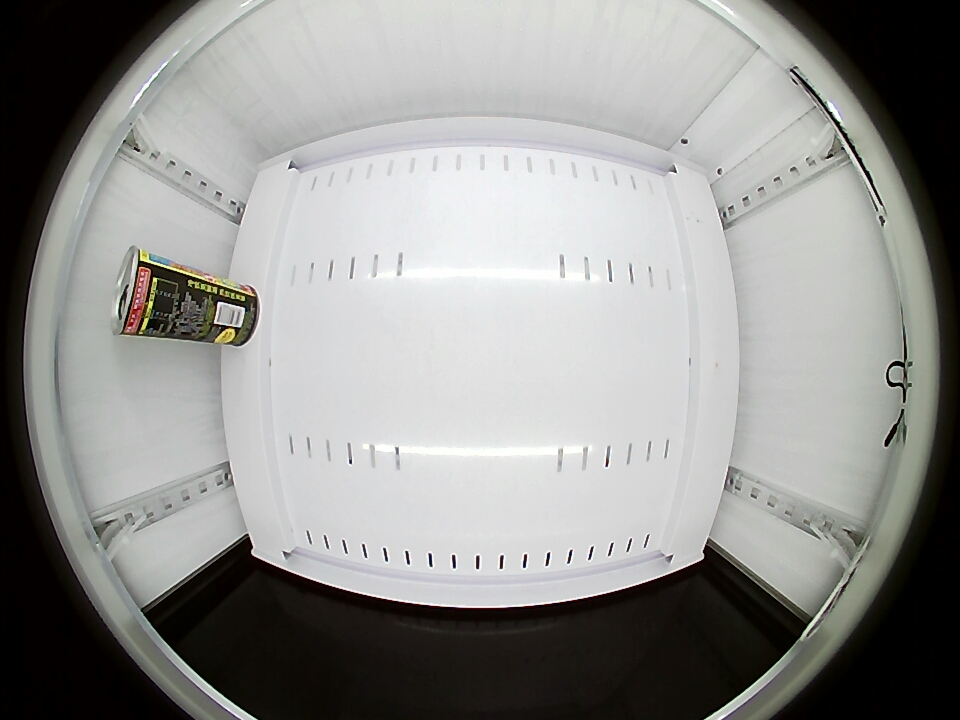yezhi: (112, 246, 165, 337)
